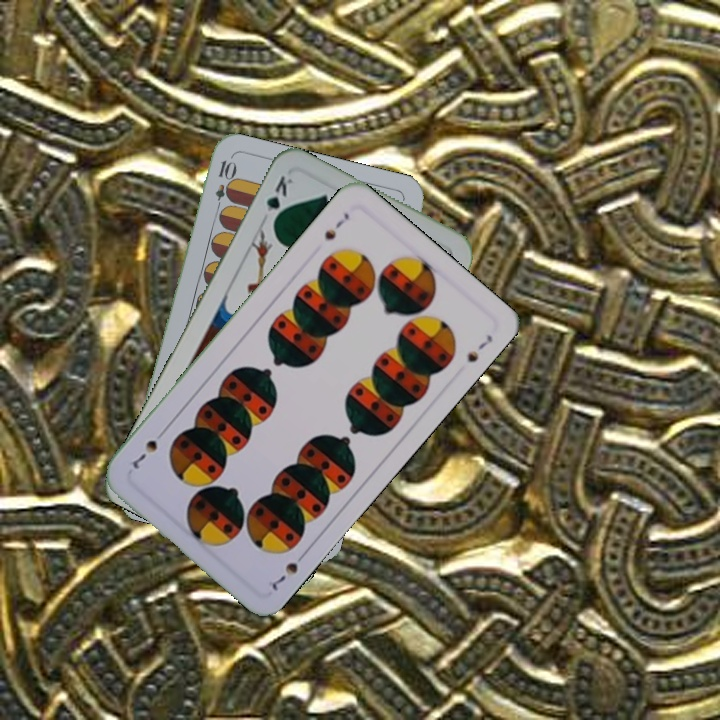E10: (210, 156, 236, 215)
GK: (262, 171, 296, 228)
S7: (267, 546, 310, 594), (320, 208, 352, 243)
